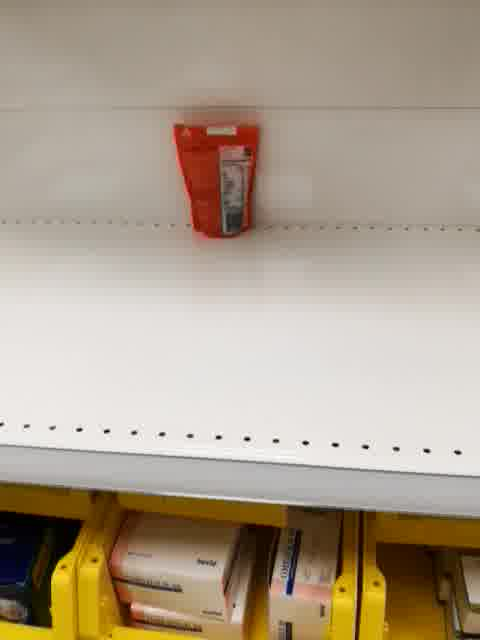whitechia: (171, 119, 260, 240)
